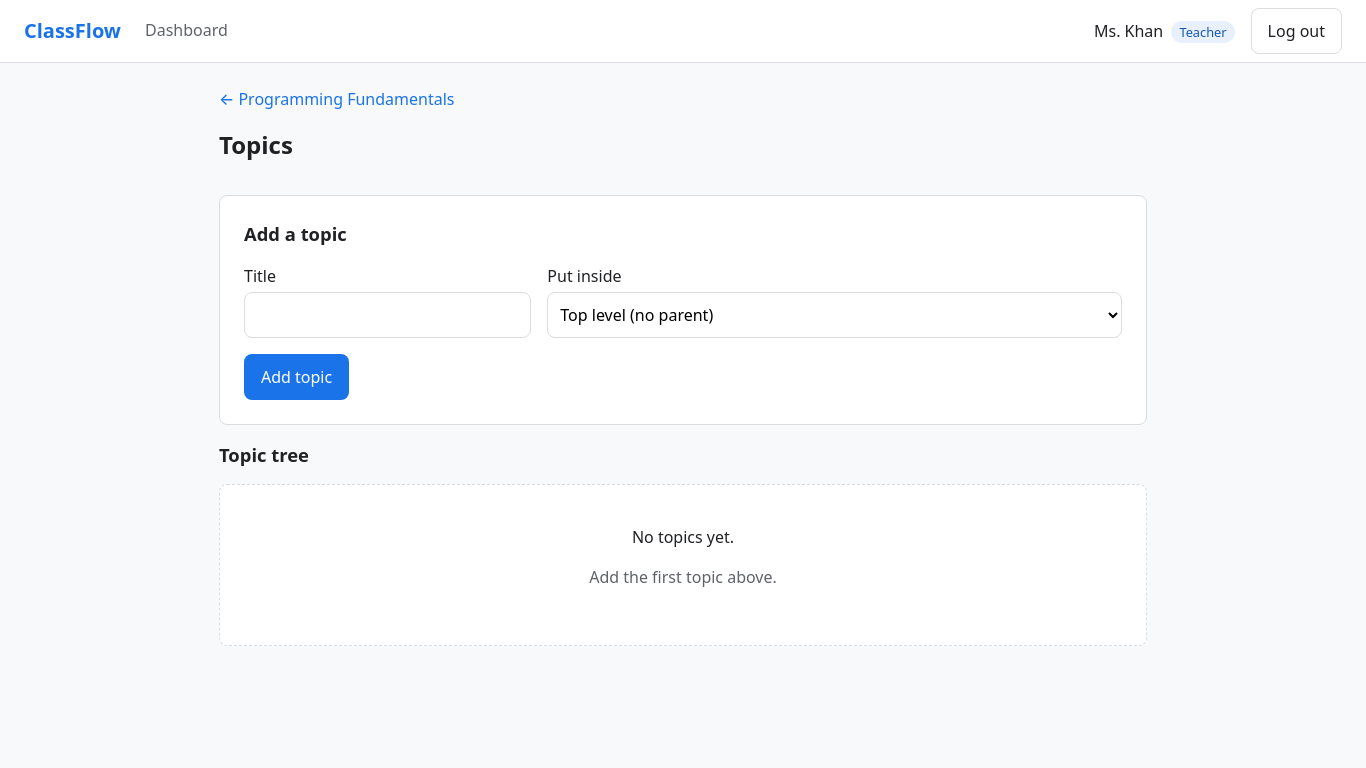
Test case: topics page (teacher) › asks for a title before sending
Click the button "Add topic" at point(297, 377), box top-left (244, 354), bottom-right (349, 400)
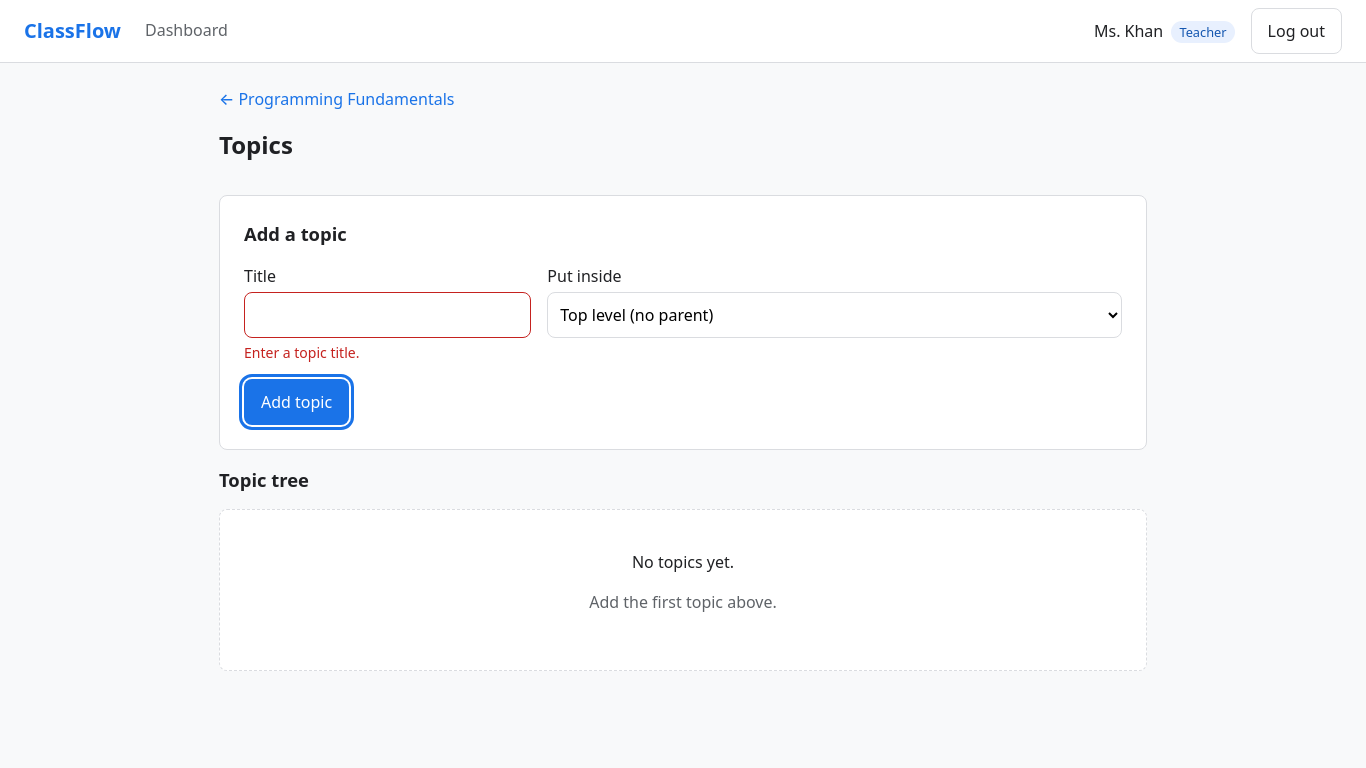
Expected: the text "Enter a topic title." is shown, top-left (244, 343), bottom-right (359, 362)
